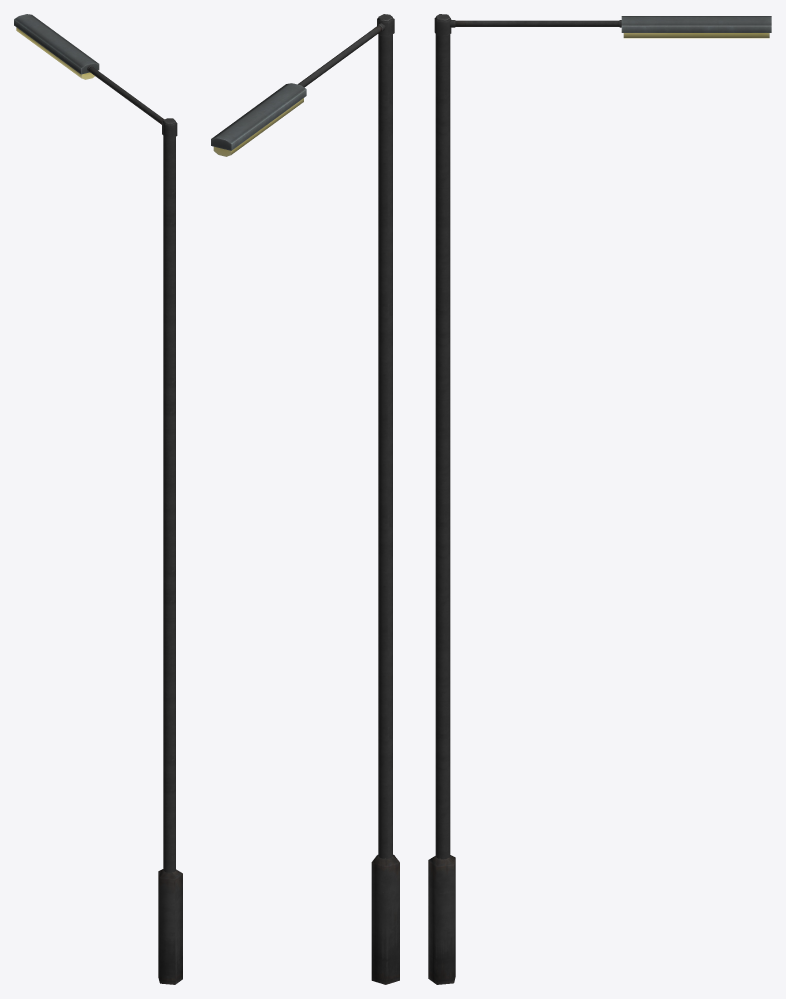
Rendered from Overhanging_Street_-_Light_on.glb.
3 views of the same model, side by side, from view 1: azimuth 30°, elevation 25°; view 2: azimuth 150°, elevation 25°; view 3: azimuth 270°, elevation 25° (orthographic). The views are drawn at different scales.
Parts seen in each view (by area): view 1: Overhanging_Street_Light_On__LOD2; view 2: Overhanging_Street_Light_On__LOD2; view 3: Overhanging_Street_Light_On__LOD2.
Part boxes in pixels (<box>): Overhanging_Street_Light_On__LOD2: <box>14,14,182,984</box>; Overhanging_Street_Light_On__LOD2: <box>211,14,399,984</box>; Overhanging_Street_Light_On__LOD2: <box>428,14,771,984</box>.
Bounding box in the file's own units: 0.1988 × 7.51 × 2.43.
Materials: 1 (1 with a texture image).
